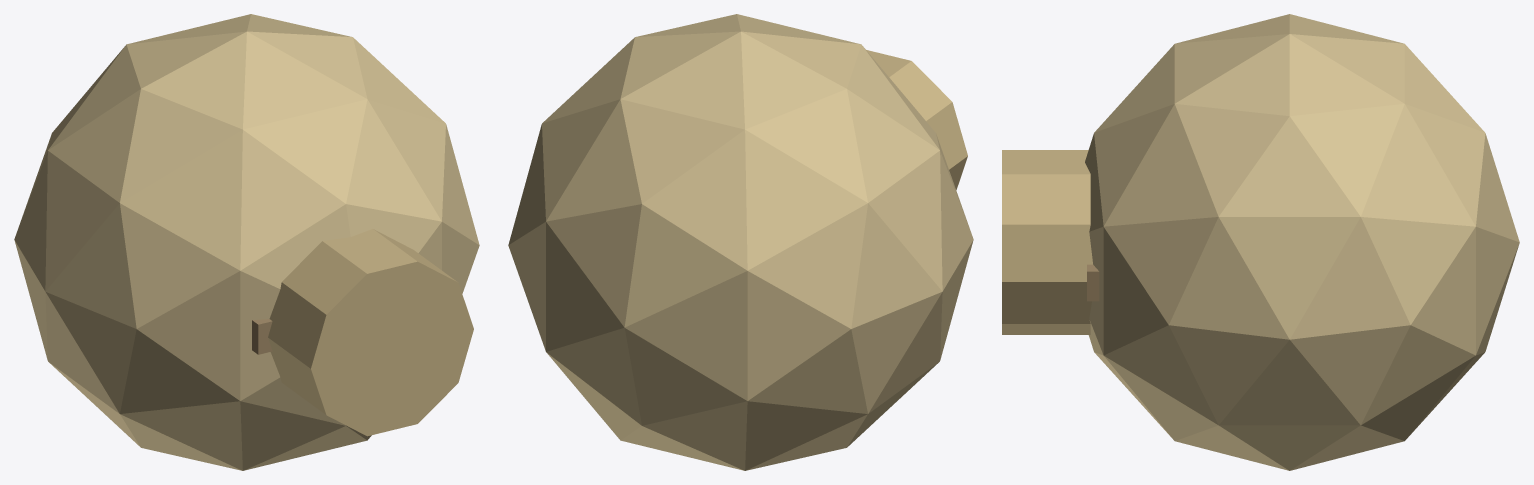
File: prop_money_bag.glb
3 views of the same model, side by side, from view 1: azimuth 30°, elevation 25°; view 2: azimuth 150°, elevation 25°; view 3: azimuth 270°, elevation 25° (orthographic).
Parts seen in each view (by area): view 1: bag_body, bag_neck, tie; view 2: bag_body, bag_neck; view 3: bag_body, bag_neck.
Boxes of the visible parts, bbox=[...] form: bag_body: bbox=[14, 14, 479, 470]; bag_neck: bbox=[268, 229, 473, 436]; tie: bbox=[252, 319, 272, 354]; bag_body: bbox=[508, 14, 973, 470]; bag_neck: bbox=[866, 50, 967, 189]; bag_body: bbox=[1085, 14, 1519, 470]; bag_neck: bbox=[1002, 150, 1092, 334].
Size of the model in its own units: 0.84 by 0.84 by 0.945.
